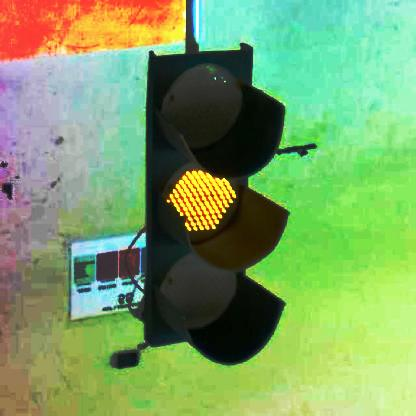Traffic Light -Yellow-: (145, 48, 282, 361)
